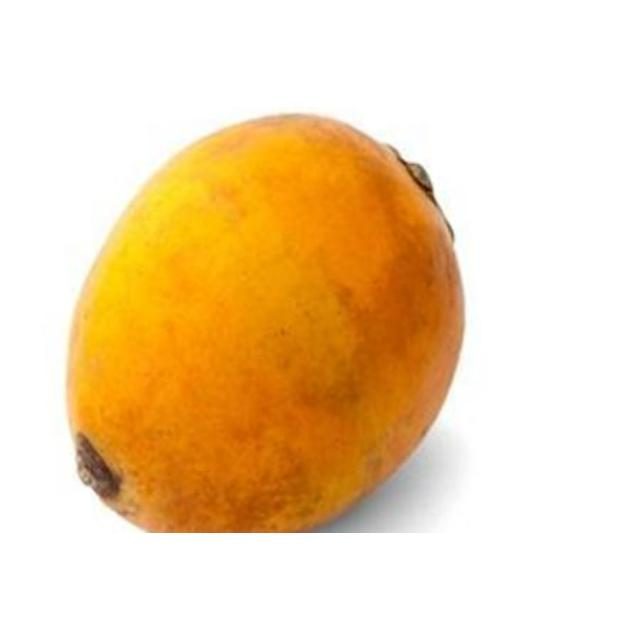good: (63, 114, 468, 532)
